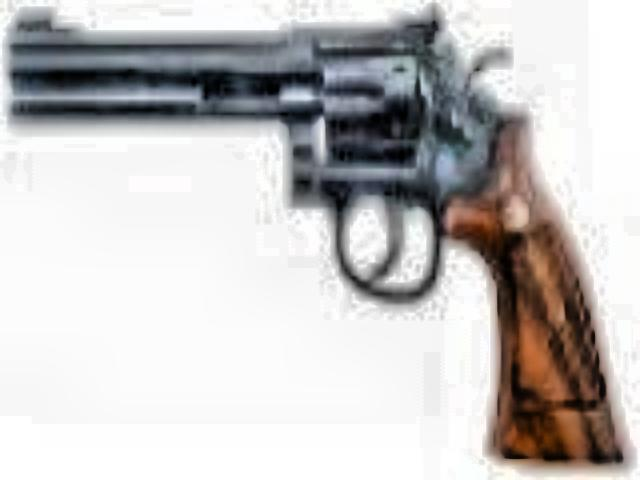pistol: (0, 8, 616, 468)
